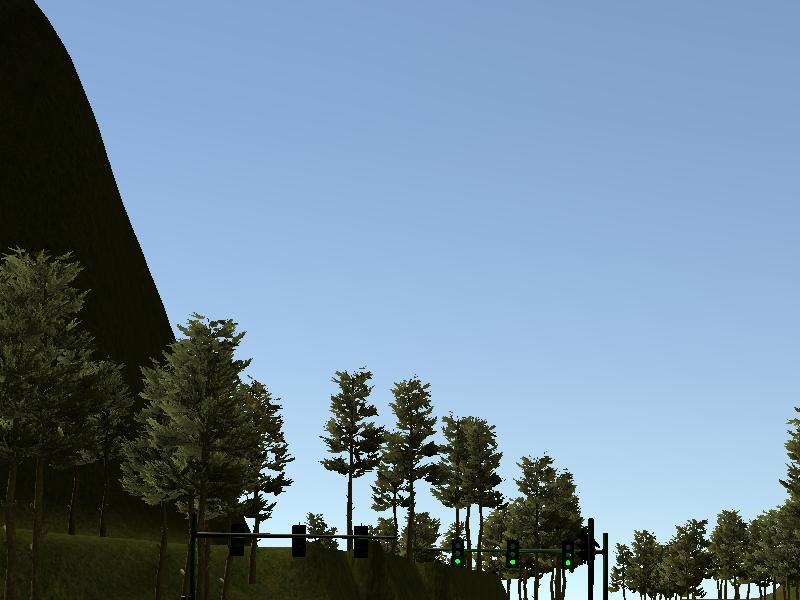Green: (505, 537, 519, 568), (450, 538, 463, 568), (561, 540, 573, 568)
